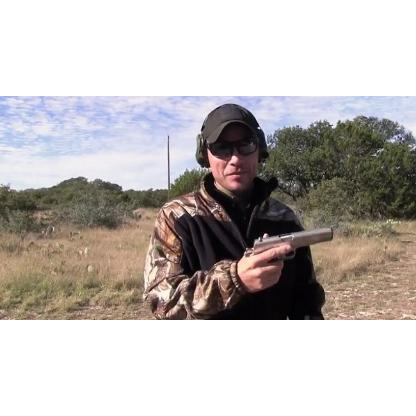gun: (244, 225, 334, 289)
